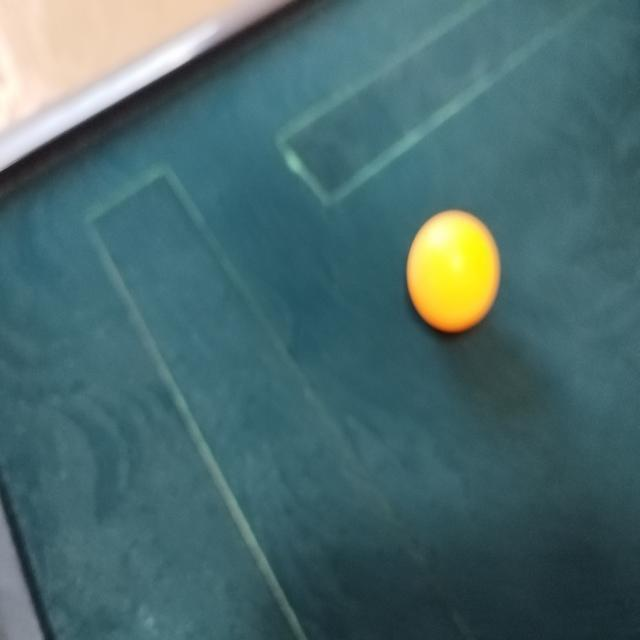ping-pong-ball: (407, 209, 500, 332)
